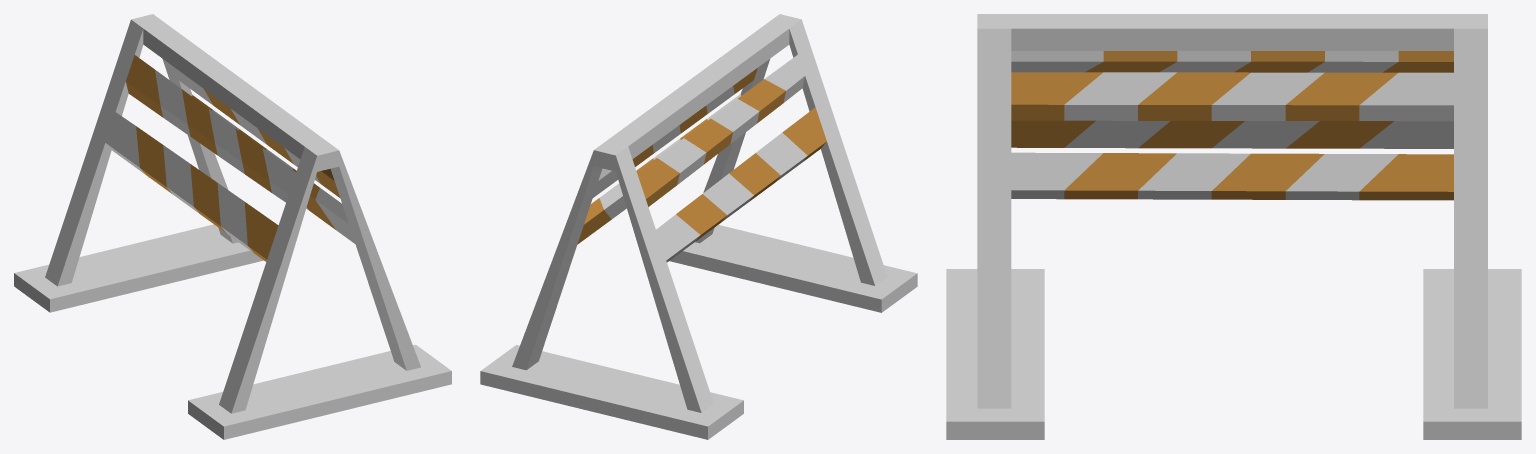
File: Barrera.fbx
3 views of the same model, side by side, from view 1: azimuth 30°, elevation 25°; view 2: azimuth 150°, elevation 25°; view 3: azimuth 270°, elevation 25° (orthographic). The views are drawn at different scales.
Visible parts, largest first — view 1: Cube; view 2: Cube; view 3: Cube.
Part boxes in pixels (x1,y1,x2,y2): Cube: (14, 14, 451, 439); Cube: (480, 14, 917, 439); Cube: (946, 14, 1521, 439).
Size of the model in its own units: 193 by 203 by 308.
